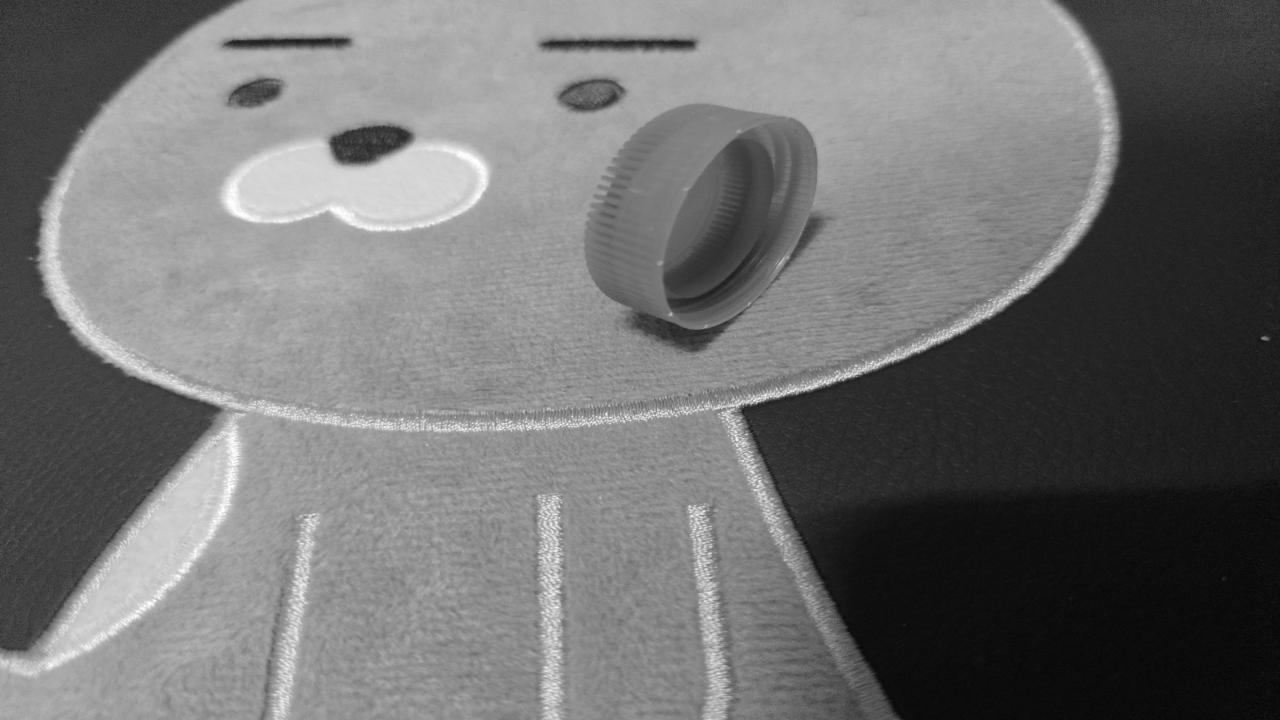bottle_cap: (578, 99, 824, 335)
